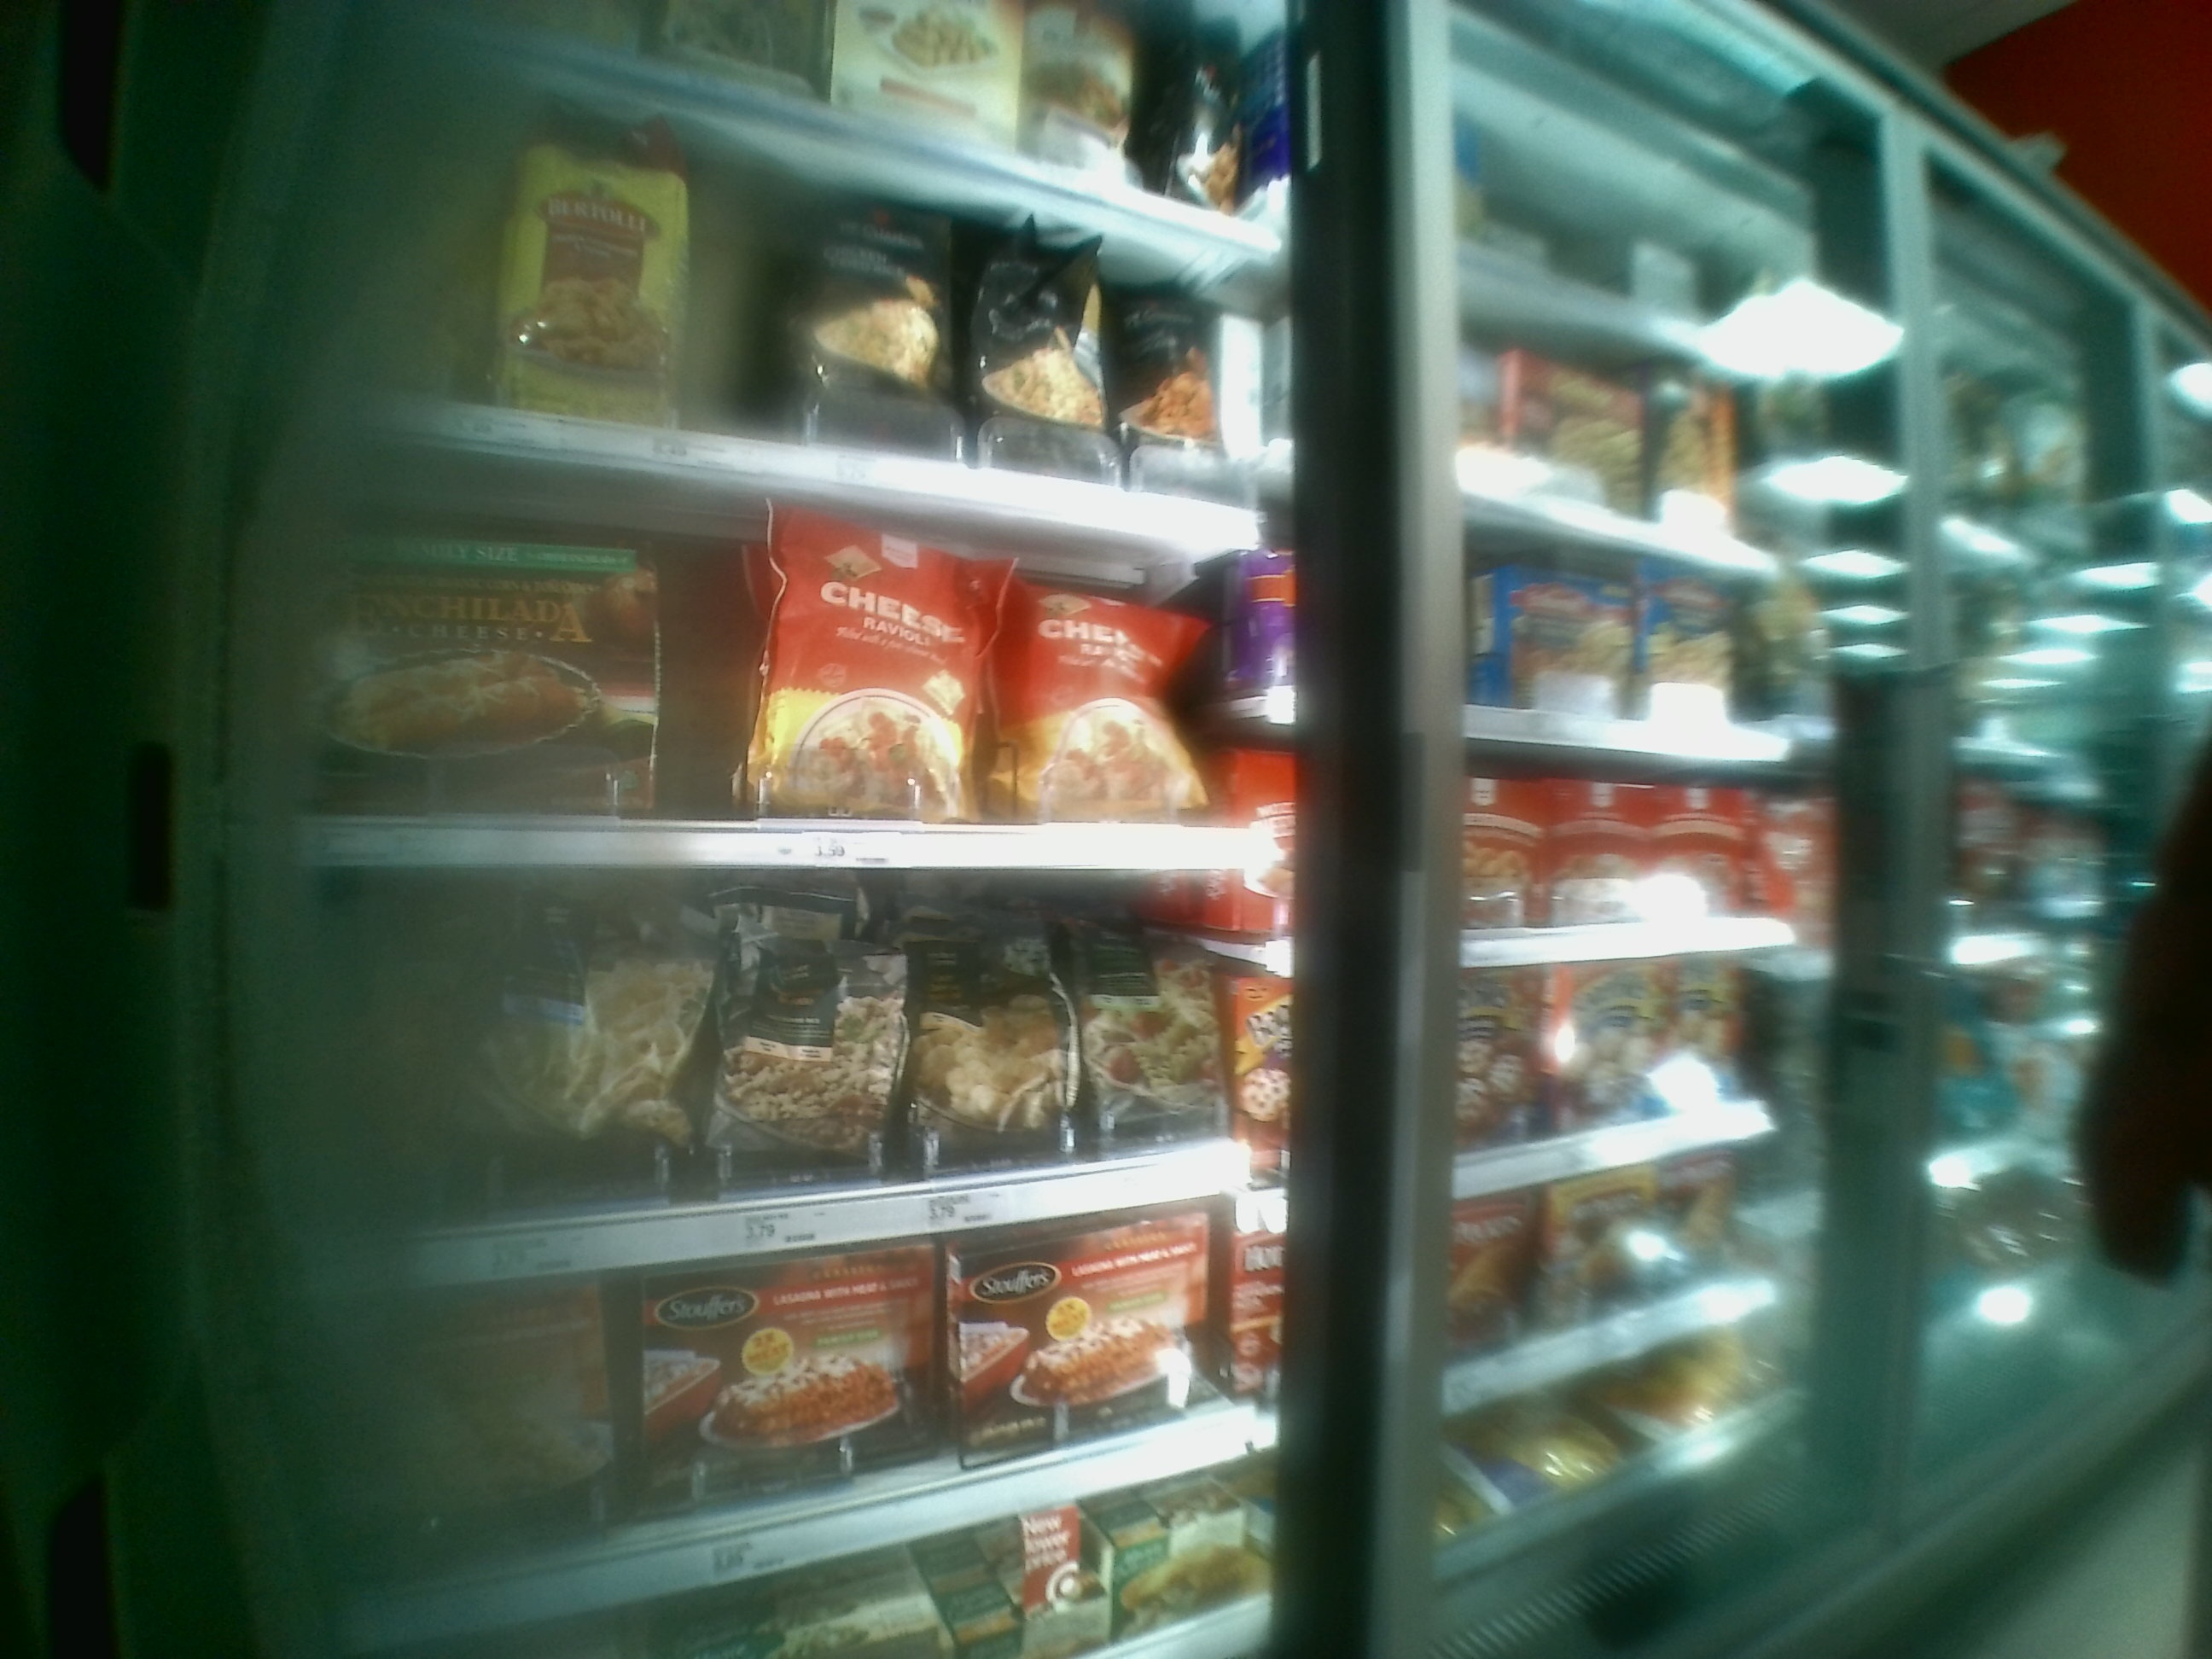shelf: (301, 420, 1280, 868), (296, 871, 1294, 1305)
